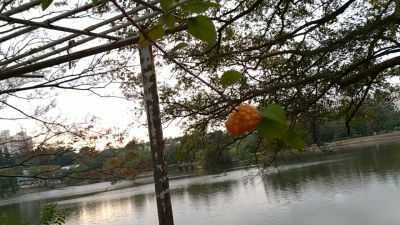eggs: (225, 103, 262, 137)
